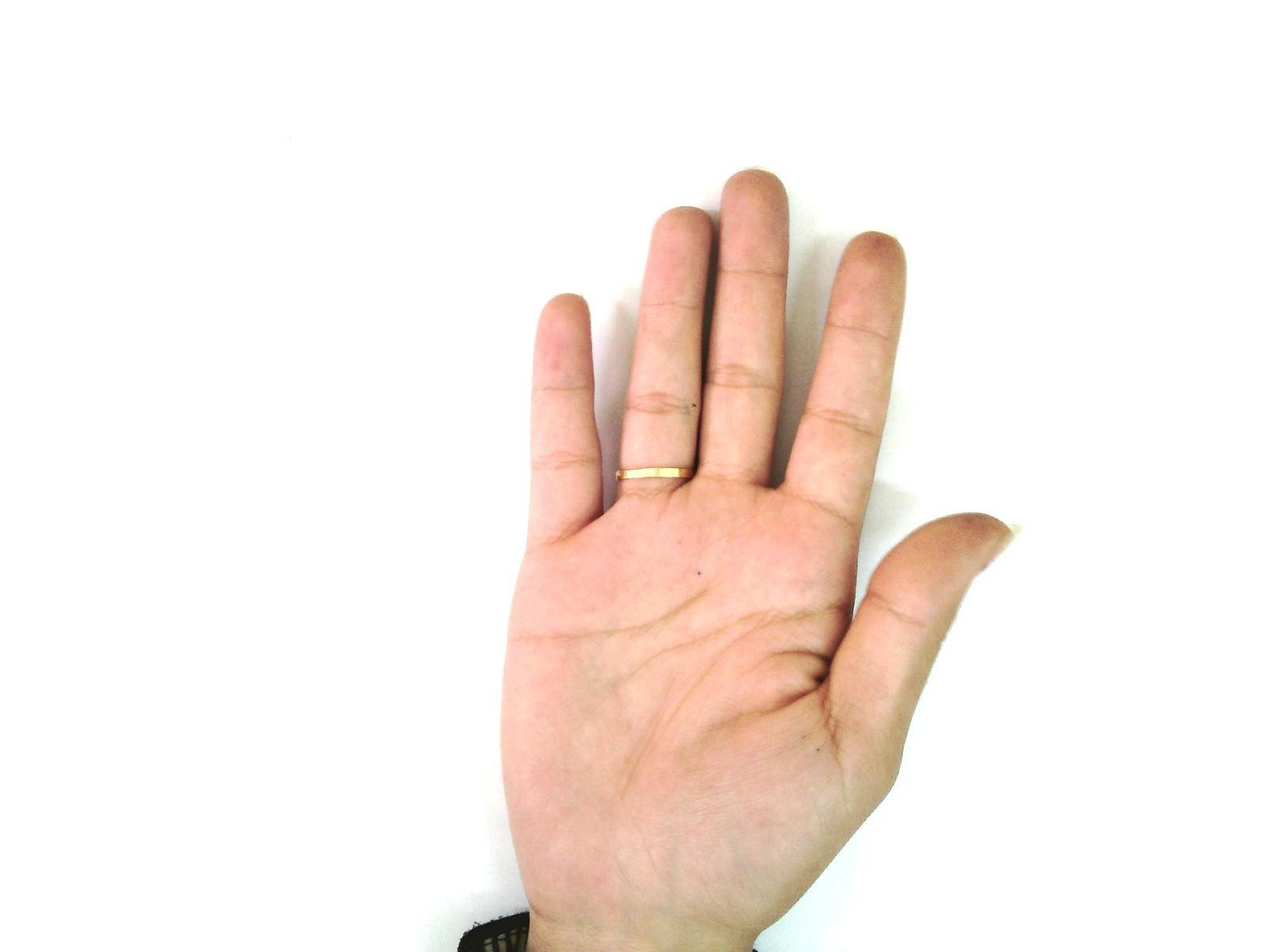open_palm: (493, 167, 1019, 950)
